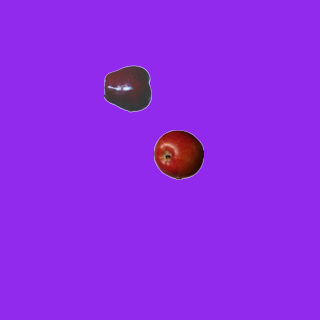Apple Braeburn: (153, 129, 203, 179)
Apple Red Delicious: (103, 63, 153, 113)
